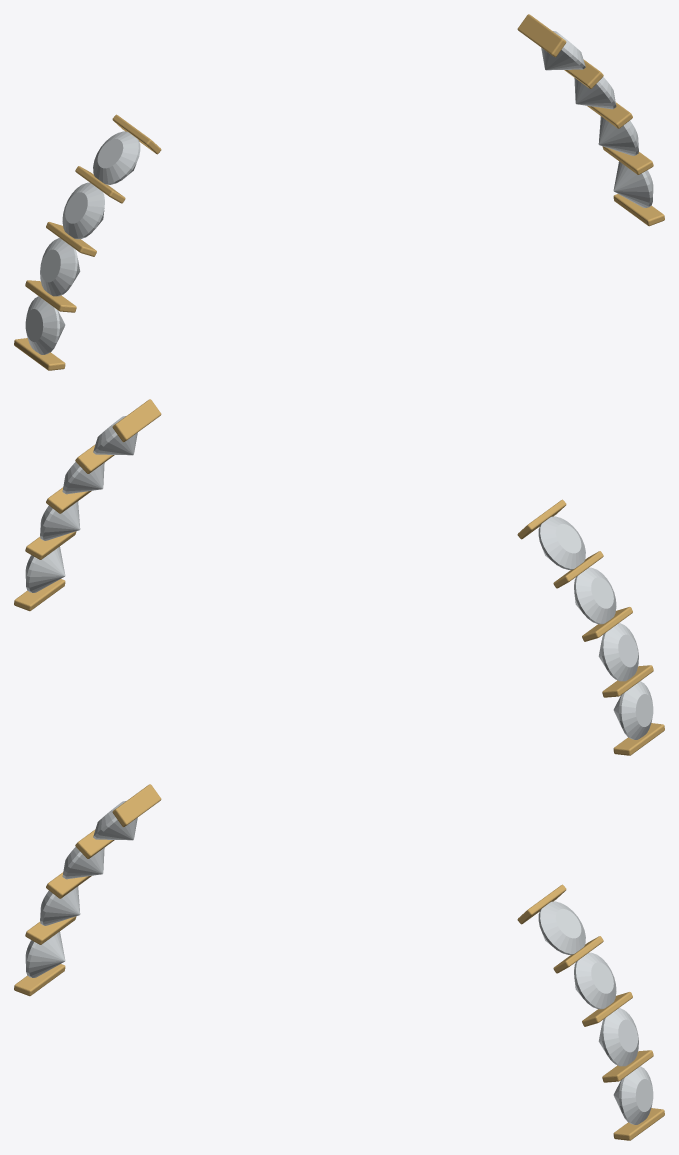
File: accents-bar-head.glb
3 views of the same model, one above another, from view 1: azimuth 30°, elevation 25°; view 2: azimuth 150°, elevation 25°; view 3: azimuth 330°, elevation 25° (orthographic).
Parts seen in each view (by area): view 1: Gem, Gem.001, Gem.002, Gem.003, Gem.007, Gem.006, Setting bar.005, Gem.005, Gem.004, Setting bar.009, Setting bar, Setting bar.008 (+3 smaller); view 2: Gem, Gem.001, Gem.002, Gem.003, Gem.007, Gem.006, Setting bar.005, Gem.005, Gem.004, Setting bar.009, Setting bar, Setting bar.008 (+3 smaller); view 3: Gem.004, Gem.005, Gem.006, Gem.007, Gem.003, Gem.002, Setting bar.004, Gem.001, Gem, Setting bar, Setting bar.009, Setting bar.001 (+3 smaller).
Part boxes in pixels (x1=…): Gem: x1=93, y1=131, x2=140, y2=184; Gem.001: x1=62, y1=182, x2=104, y2=239; Gem.002: x1=40, y1=238, x2=80, y2=296; Gem.003: x1=25, y1=296, x2=65, y2=354; Gem.007: x1=613, y1=161, x2=653, y2=207; Gem.006: x1=598, y1=116, x2=638, y2=155; Setting bar.005: x1=517, y1=14, x2=566, y2=57; Gem.005: x1=574, y1=77, x2=616, y2=109; Gem.004: x1=541, y1=31, x2=585, y2=70; Setting bar.009: x1=613, y1=194, x2=664, y2=226; Setting bar: x1=14, y1=338, x2=65, y2=370; Setting bar.008: x1=602, y1=146, x2=653, y2=174; Gem: x1=538, y1=516, x2=585, y2=569; Gem.001: x1=574, y1=567, x2=616, y2=624; Gem.002: x1=598, y1=623, x2=638, y2=681; Gem.003: x1=613, y1=681, x2=653, y2=739; Gem.007: x1=25, y1=546, x2=65, y2=592; Gem.006: x1=40, y1=501, x2=80, y2=540; Setting bar.005: x1=112, y1=399, x2=161, y2=442; Gem.005: x1=62, y1=462, x2=104, y2=494; Gem.004: x1=93, y1=416, x2=137, y2=455; Setting bar.009: x1=14, y1=579, x2=65, y2=611; Setting bar: x1=613, y1=723, x2=664, y2=755; Setting bar.008: x1=25, y1=531, x2=76, y2=559; Gem.004: x1=538, y1=901, x2=585, y2=954; Gem.005: x1=574, y1=952, x2=616, y2=1009; Gem.006: x1=598, y1=1008, x2=638, y2=1066; Gem.007: x1=613, y1=1066, x2=653, y2=1124; Gem.003: x1=25, y1=931, x2=65, y2=977; Gem.002: x1=40, y1=886, x2=80, y2=925; Setting bar.004: x1=112, y1=784, x2=161, y2=827; Gem.001: x1=62, y1=847, x2=104, y2=879; Gem: x1=93, y1=801, x2=137, y2=840; Setting bar: x1=14, y1=964, x2=65, y2=996; Setting bar.009: x1=613, y1=1108, x2=664, y2=1140; Setting bar.001: x1=25, y1=916, x2=76, y2=944.
Bounding box in the file's own units: 19.76 × 6.38 × 1.95.
